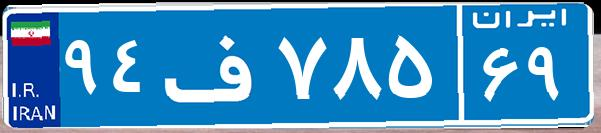4: (110, 28, 158, 105)
5: (385, 28, 445, 110)
6: (475, 38, 525, 113)
7: (273, 28, 330, 110)
8: (330, 28, 385, 110)
9: (57, 26, 110, 107), (525, 38, 570, 115)
ف: (158, 15, 273, 115)
